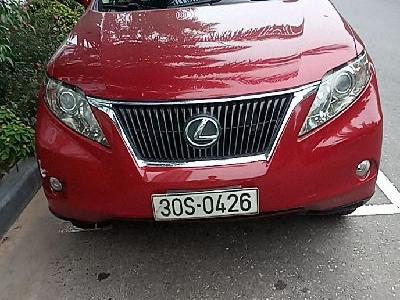lisence: (150, 187, 261, 223)
